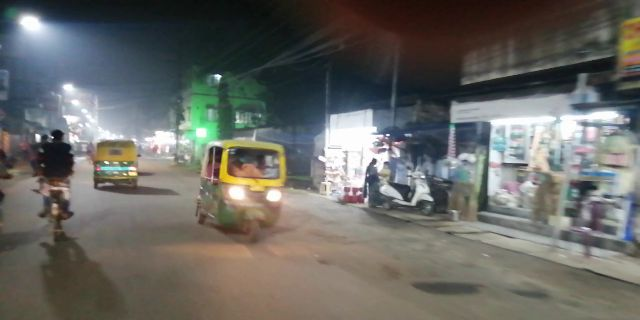Autorickshaw: (198, 137, 296, 248), (91, 142, 143, 198)
Cycle: (27, 128, 73, 245)
